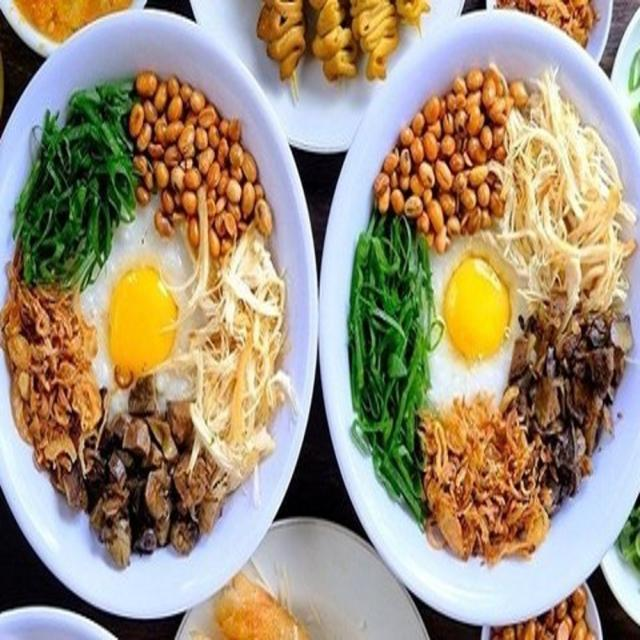bubur ayam: (342, 61, 640, 566), (4, 70, 292, 568)
mangkuk: (316, 10, 640, 628), (0, 9, 320, 619), (191, 0, 466, 156), (600, 494, 640, 626), (610, 8, 640, 138), (0, 606, 116, 638)
